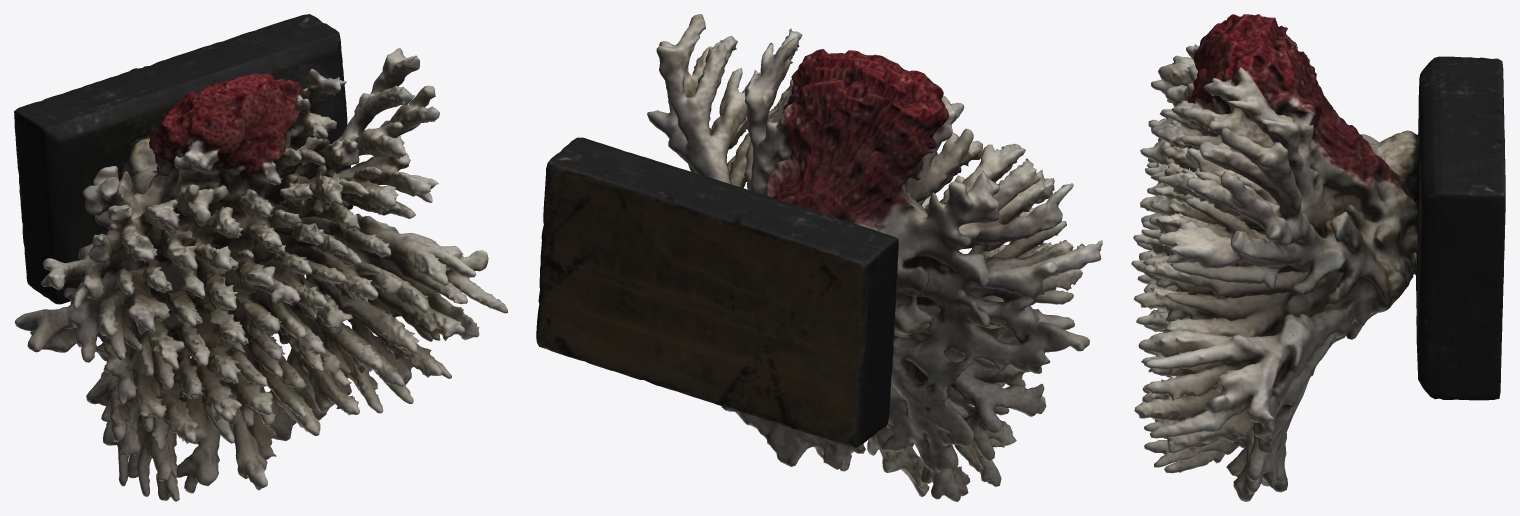
Rendered from usnm_268-source.glb.
3 views of the same model, side by side, from view 1: azimuth 30°, elevation 25°; view 2: azimuth 150°, elevation 25°; view 3: azimuth 270°, elevation 25° (orthographic). The views are drawn at different scales.
Bounding box in the file's own units: 0.2584 × 0.2228 × 0.1685.
Materials: 1 (1 with a texture image).
